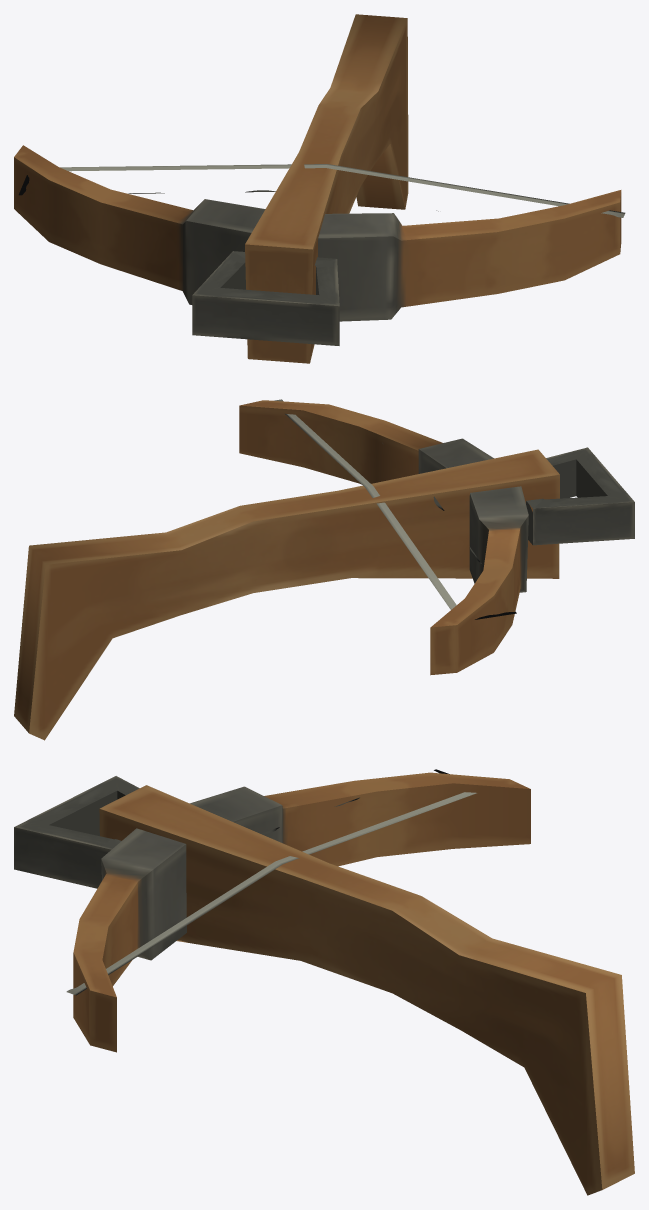
The model's file is Crossbow.FBX.
The picture shows the model from 3 angles, top to bottom: view 1: azimuth 30°, elevation 25°; view 2: azimuth 150°, elevation 25°; view 3: azimuth 270°, elevation 25°; orthographic projection. The views are drawn at different scales.
Visible parts, largest first — view 1: Crossbow; view 2: Crossbow; view 3: Crossbow.
Part boxes in pixels (x1=…): Crossbow: x1=14, y1=14, x2=625, y2=363; Crossbow: x1=14, y1=399, x2=634, y2=740; Crossbow: x1=14, y1=769, x2=634, y2=1195.
Size of what is drawn, in the model's own units: 64.05 by 69.36 by 27.12.
Materials: 1 (1 with a texture image).
